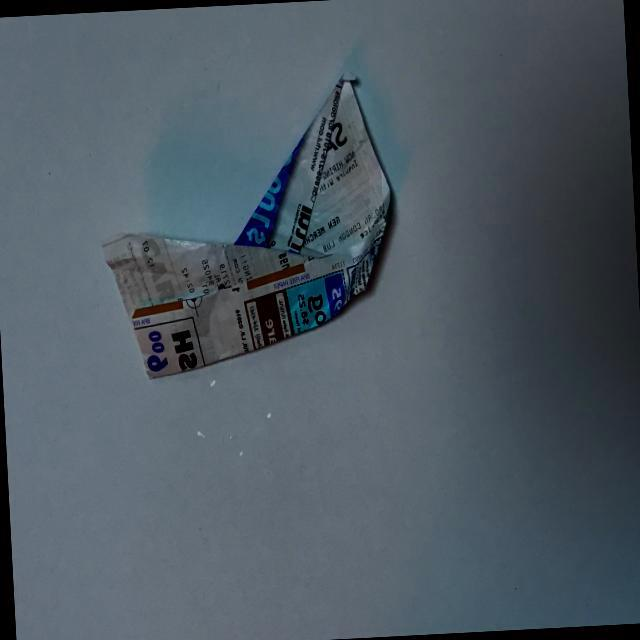paper: (86, 73, 404, 384)
